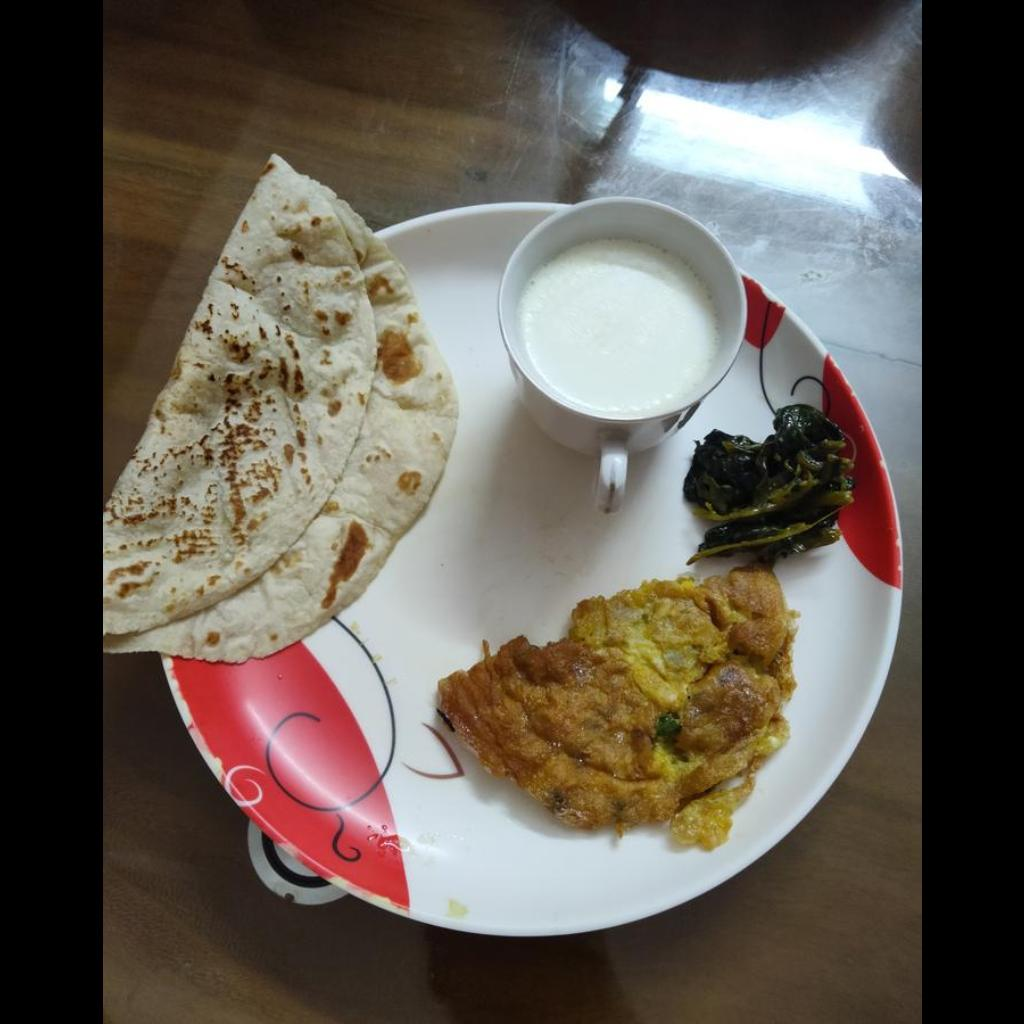egg-poached: (435, 571, 793, 850)
milk: (515, 238, 715, 408)
ruti: (102, 156, 461, 659)
shak: (684, 404, 852, 558)
